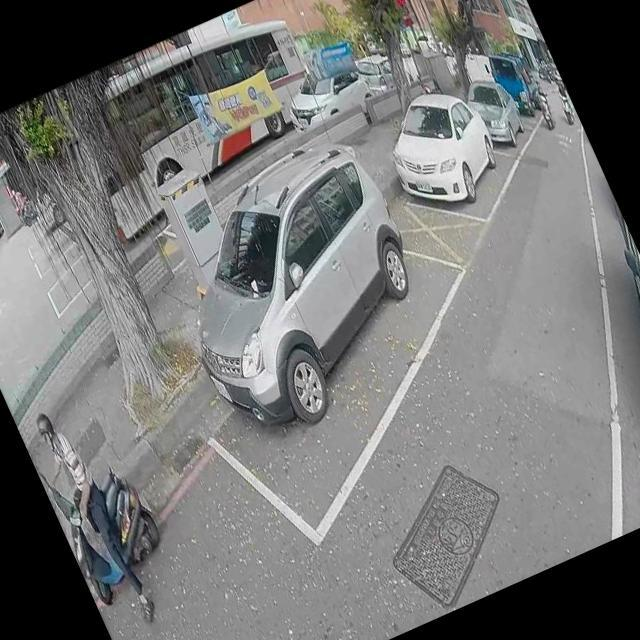person: (22, 401, 164, 640), (530, 76, 552, 110), (8, 184, 30, 217), (550, 71, 569, 100)
